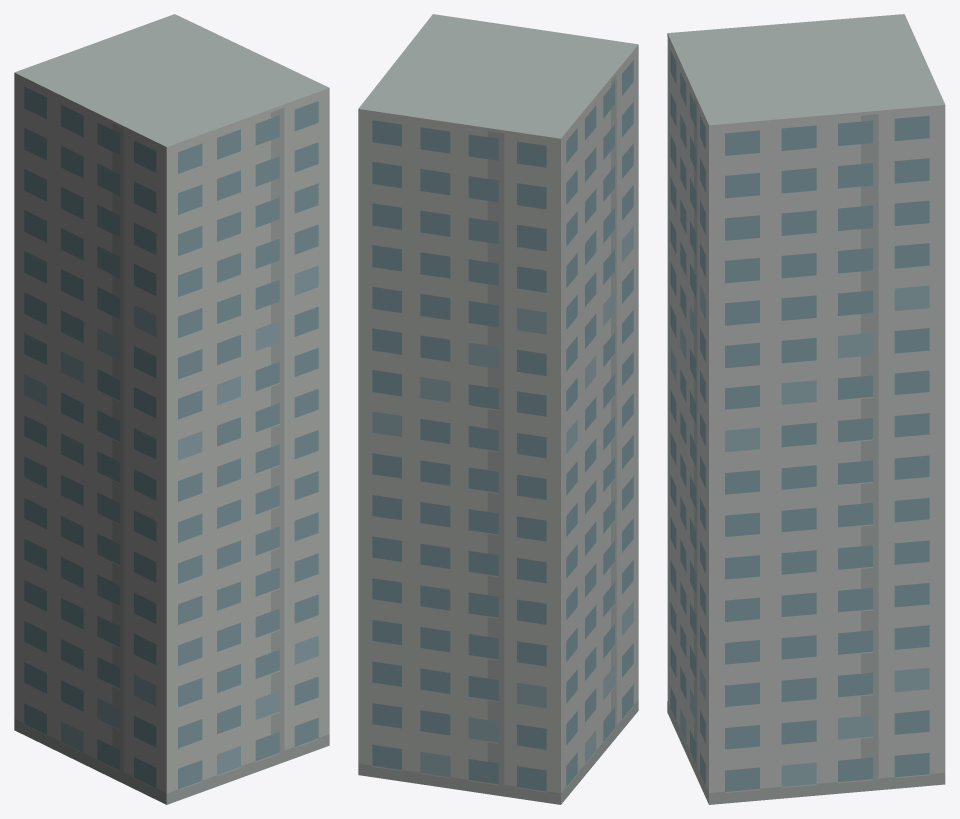
Rendered from residential-06241ca9-e2fe-4787-adc5-0caebb6e8f19.glb.
The picture shows the model from 3 angles, left to right: view 1: azimuth 30°, elevation 25°; view 2: azimuth 150°, elevation 25°; view 3: azimuth 270°, elevation 25°; orthographic projection. The views are drawn at different scales.
Parts seen in each view (by area): view 1: residential-06241ca9-e2fe-4787-adc5-0caebb6e8f19.tmp; view 2: residential-06241ca9-e2fe-4787-adc5-0caebb6e8f19.tmp; view 3: residential-06241ca9-e2fe-4787-adc5-0caebb6e8f19.tmp.
Boxes of the visible parts, x1,y1,x2,y2 form: residential-06241ca9-e2fe-4787-adc5-0caebb6e8f19.tmp: [14, 14, 329, 804]; residential-06241ca9-e2fe-4787-adc5-0caebb6e8f19.tmp: [358, 14, 638, 804]; residential-06241ca9-e2fe-4787-adc5-0caebb6e8f19.tmp: [667, 14, 945, 804].
Size of the model in its own units: 17.58 by 50 by 18.55.
